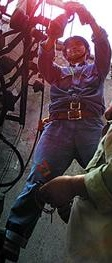boots: (0, 227, 28, 262)
hard-hat: (85, 79, 112, 121)
ppe-suit: (1, 23, 111, 250)
